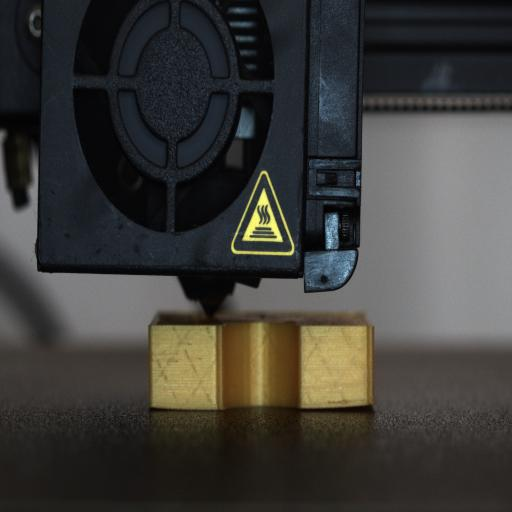warp: (332, 390, 381, 416)
